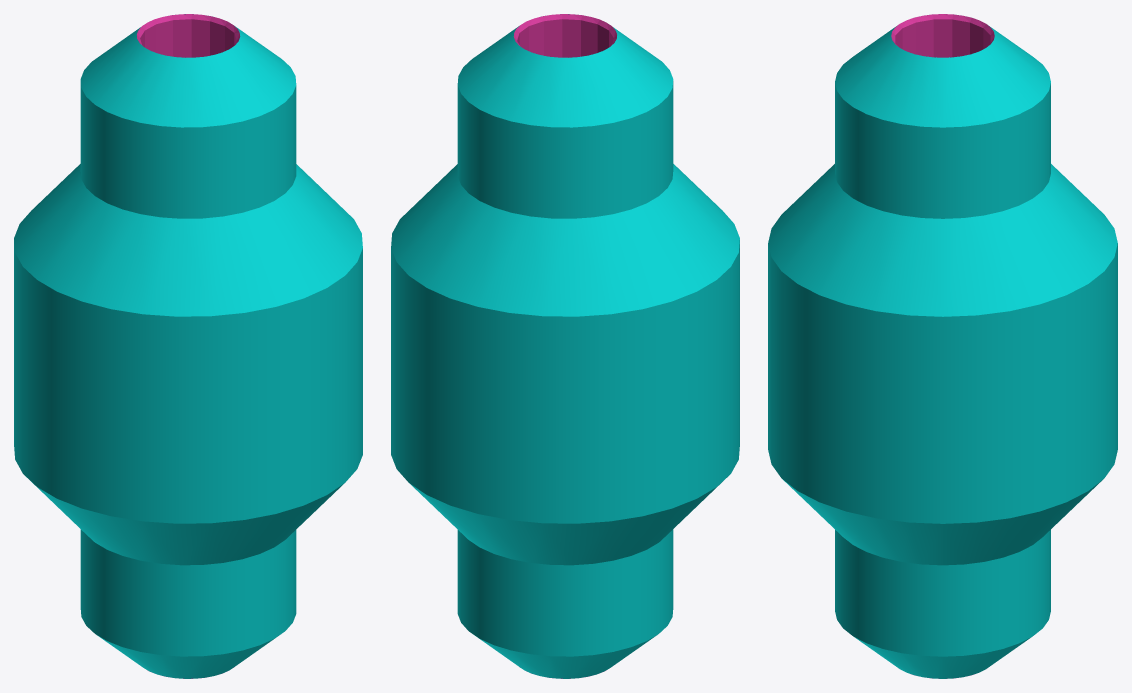
Rendered from station_hub_A_coll.dae.
3 renders of one model, left to right at view 1: azimuth 30°, elevation 25°; view 2: azimuth 150°, elevation 25°; view 3: azimuth 270°, elevation 25°, orthographic.
Visible parts, largest first — view 1: collision_ext_A, collision_wall_EXIT; view 2: collision_ext_A, collision_wall_EXIT; view 3: collision_ext_A, collision_wall_EXIT.
Part boxes in pixels (bbox=[...]): collision_ext_A: bbox=[14, 14, 362, 678]; collision_wall_EXIT: bbox=[137, 14, 240, 57]; collision_ext_A: bbox=[391, 14, 739, 678]; collision_wall_EXIT: bbox=[513, 14, 616, 57]; collision_ext_A: bbox=[768, 25, 1117, 678]; collision_wall_EXIT: bbox=[891, 14, 994, 57].
Size of the model in its own units: 512 by 512 by 1004.
